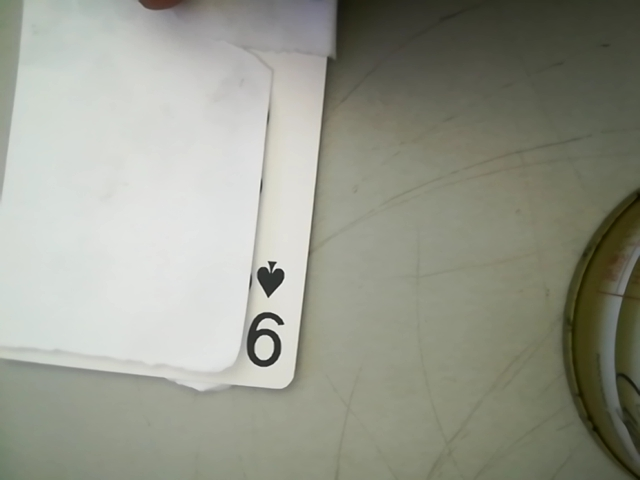ht 9: (228, 247, 301, 380)
